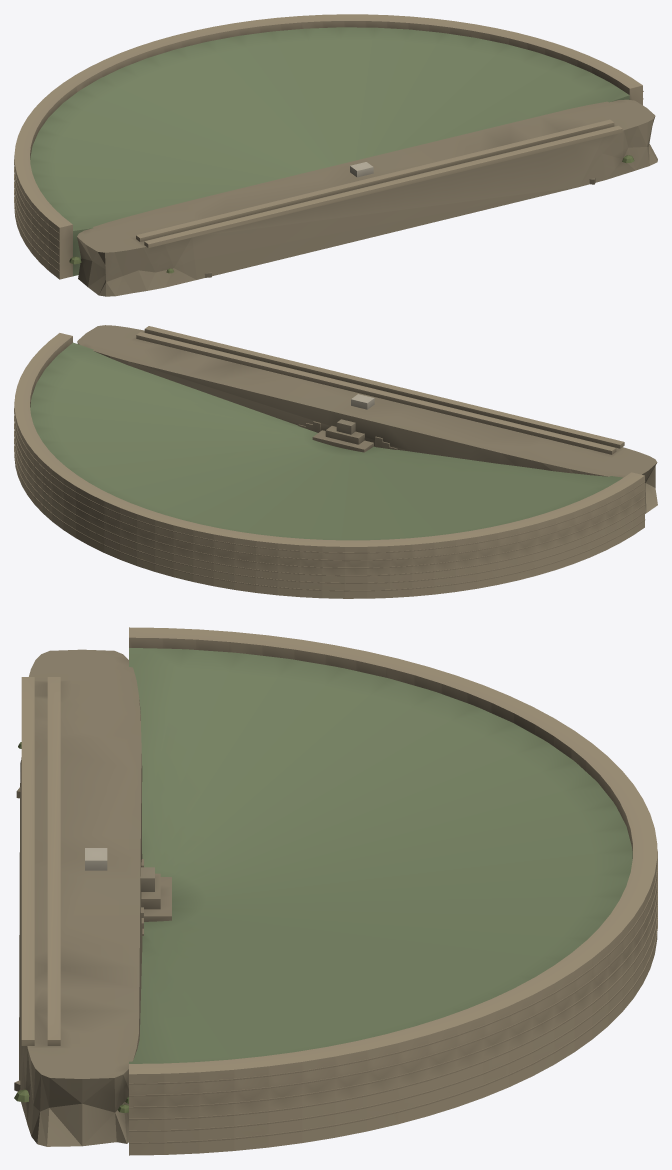
Rendered from pnyx.glb.
The picture shows the model from 3 angles, top to bottom: view 1: azimuth 30°, elevation 25°; view 2: azimuth 150°, elevation 25°; view 3: azimuth 270°, elevation 25°; orthographic projection. The views are drawn at different scales.
Parts seen in each view (by area): view 1: p0_hill, p1_walls, p2_terrace; view 2: p0_hill, p1_walls, p2_terrace; view 3: p0_hill, p1_walls, p2_terrace.
Boxes of the visible parts, x1,y1,x2,y2 form: p0_hill: (30,27,657,296); p1_walls: (14,14,643,279); p2_terrace: (136,119,622,247); p0_hill: (30,325,657,540); p1_walls: (14,333,645,598); p2_terrace: (136,326,624,454); p0_hill: (14,648,632,1146); p1_walls: (129,627,657,1155); p2_terrace: (21,677,107,1045).
Bounding box in the file's own units: 113 × 9.6 × 68.95.
